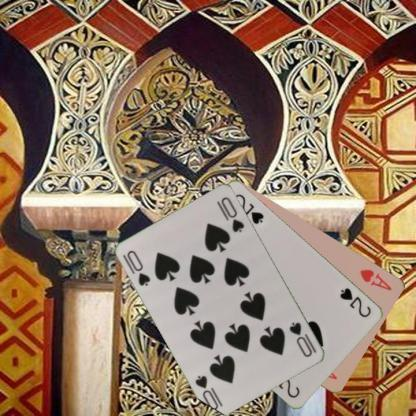10s: (124, 247, 153, 288), (287, 319, 314, 359)
2s: (338, 285, 372, 319)
Ah: (357, 266, 394, 291)
